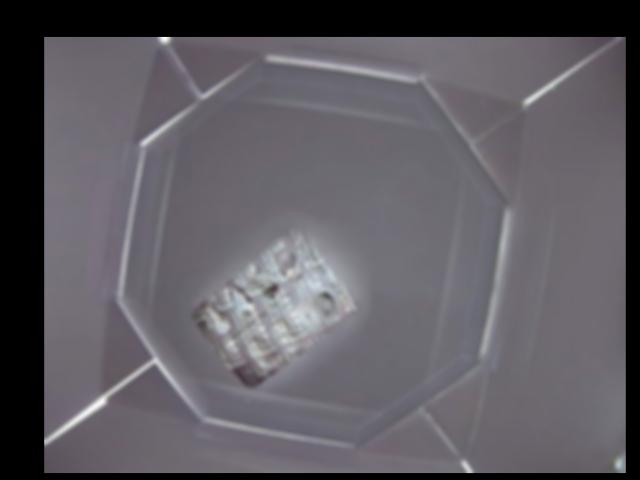Medicine: (193, 228, 357, 387)
